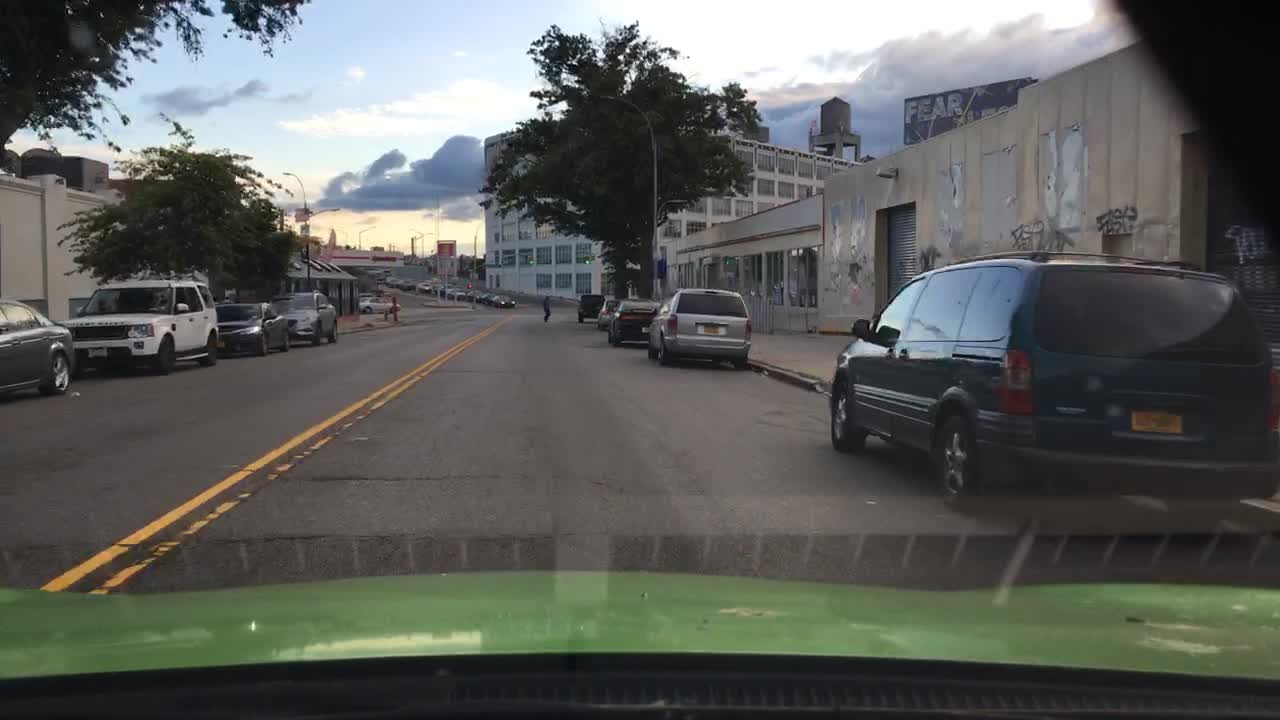car: (827, 249, 1279, 516), (55, 273, 219, 376), (641, 286, 749, 369), (1, 296, 76, 398), (214, 298, 293, 359), (260, 290, 341, 349), (602, 298, 658, 347), (570, 290, 606, 323), (356, 293, 396, 315), (595, 298, 621, 330), (489, 292, 516, 312), (418, 278, 435, 295), (403, 277, 421, 292), (472, 287, 489, 302), (388, 275, 404, 290), (455, 289, 472, 302), (437, 285, 450, 299)
person: (540, 291, 553, 325)
traffic light: (583, 251, 595, 268), (524, 251, 536, 265)
traffic sign: (295, 208, 310, 221)
